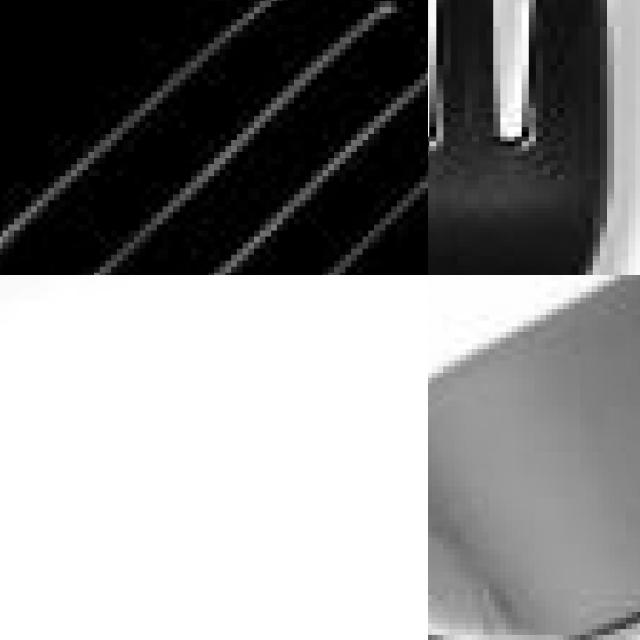forks: (0, 0, 428, 275), (428, 275, 640, 640), (428, 0, 640, 275)
